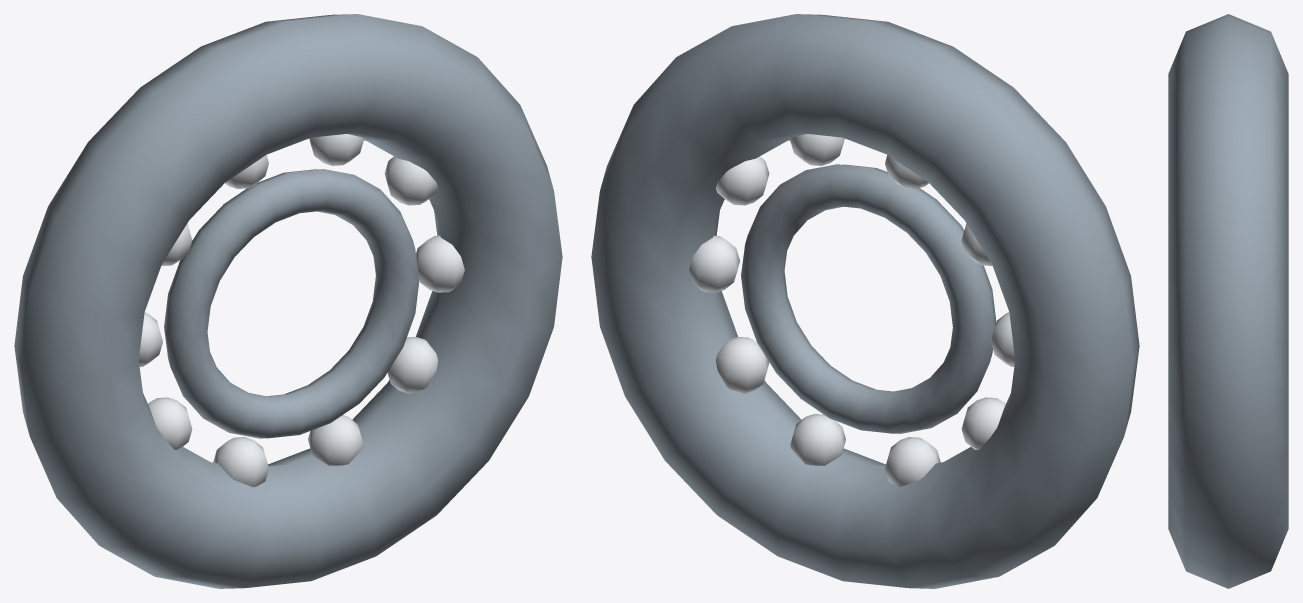
3 renders of one model, left to right at view 1: azimuth 30°, elevation 25°; view 2: azimuth 150°, elevation 25°; view 3: azimuth 270°, elevation 25°, orthographic. The views are drawn at different scales.
Parts seen in each view (by area): view 1: 调心球轴承; view 2: 调心球轴承; view 3: 调心球轴承.
Part boxes in pixels (x1,y1,x2,y2): 调心球轴承: (14,14,562,588); 调心球轴承: (591,14,1139,588); 调心球轴承: (1168,14,1288,588).
Bounding box in the file's own units: 0.96 × 0.96 × 0.2.
